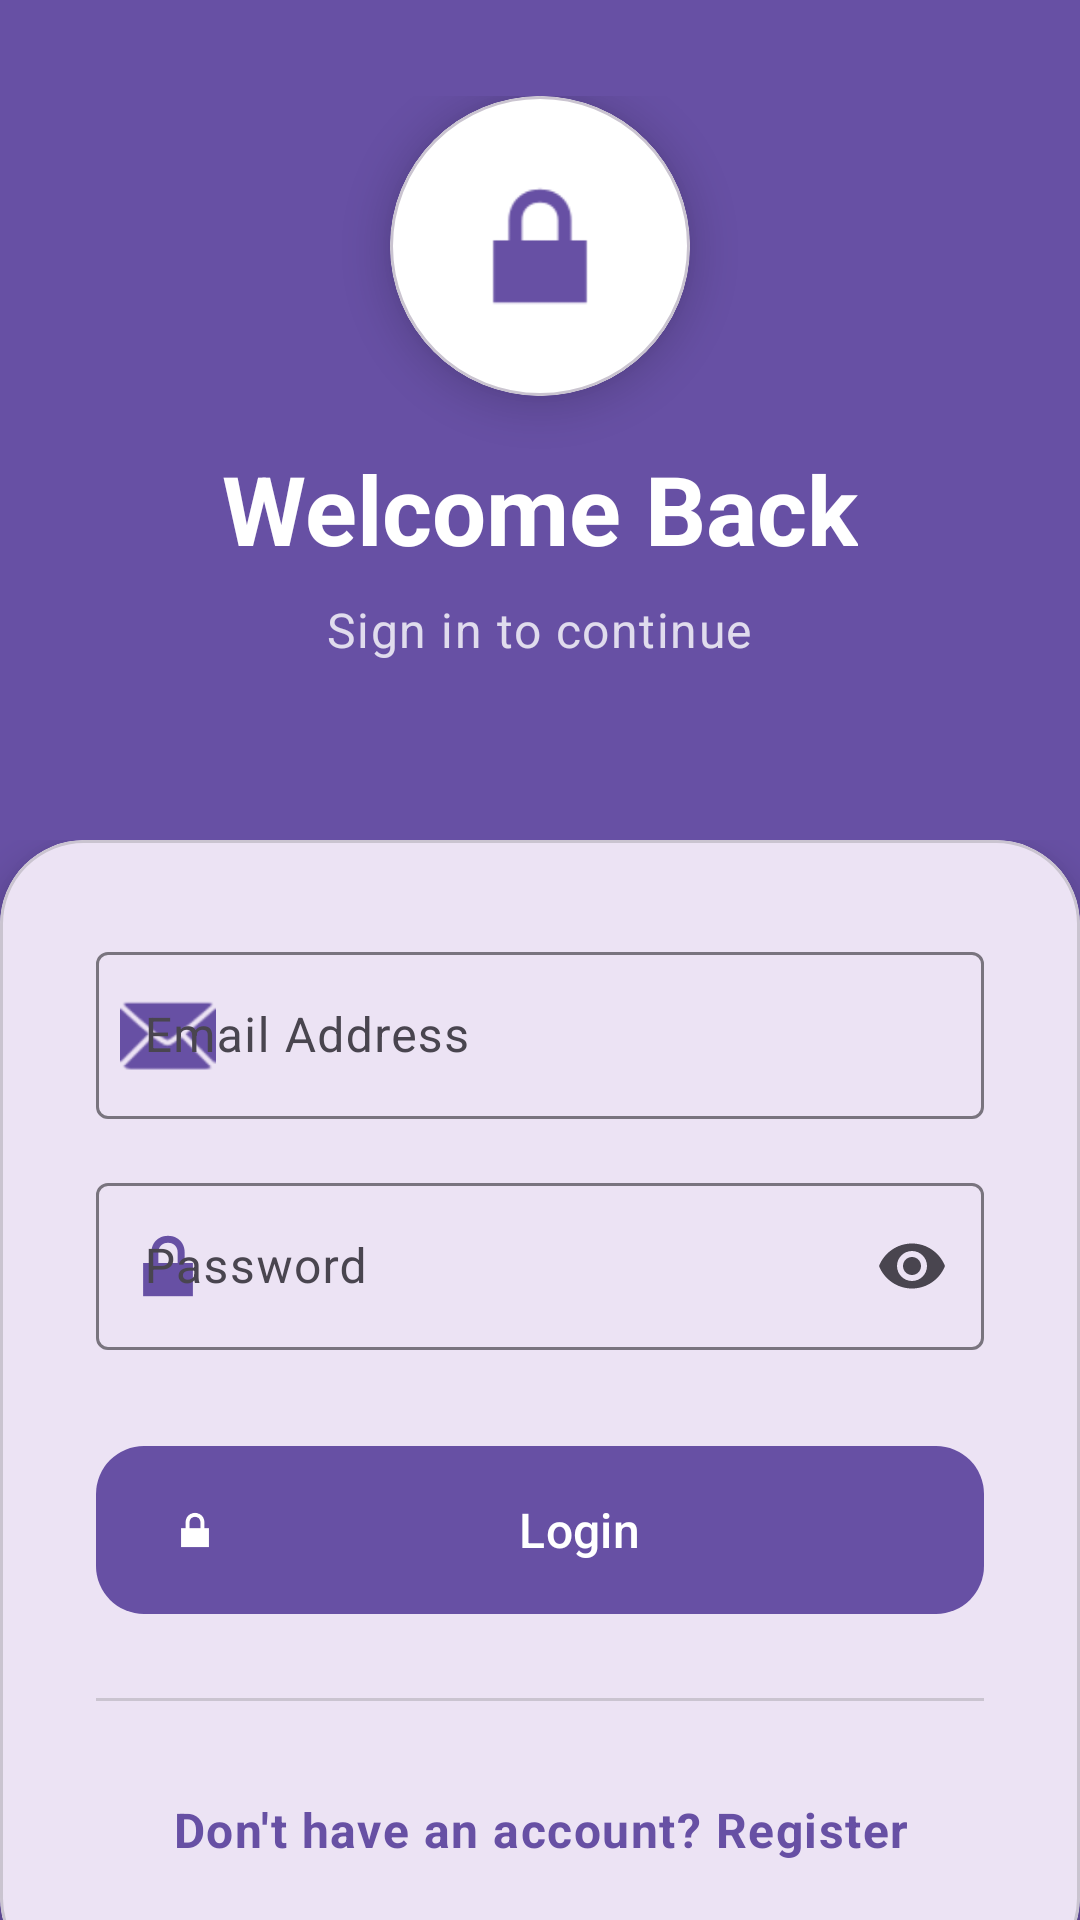

Named icons in this screenshot (1080w x 1920h) and their centers, (x=x, y=y):
lock: (x=540, y=246)
